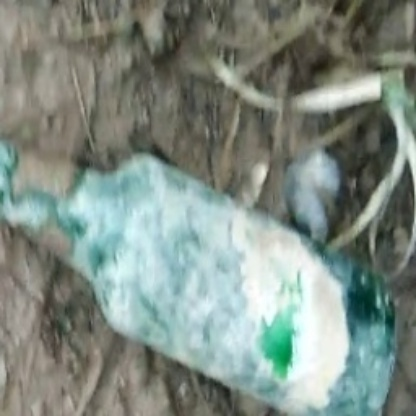bottle: (8, 134, 398, 416)
